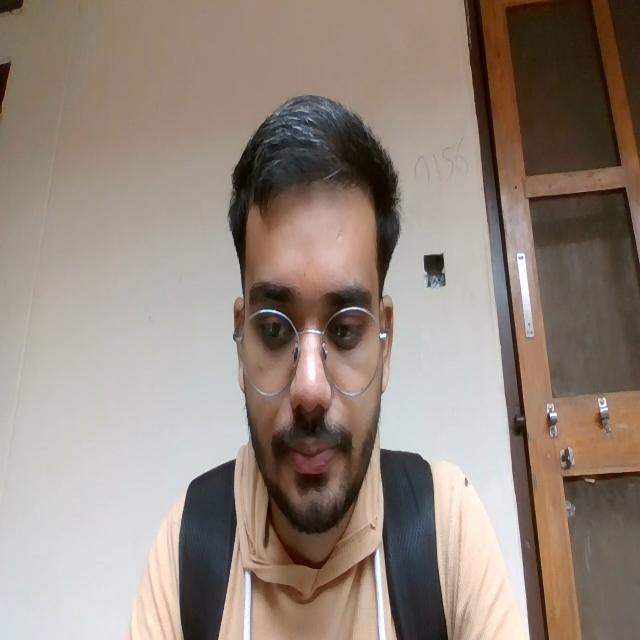drowsy: (252, 274, 366, 482)
